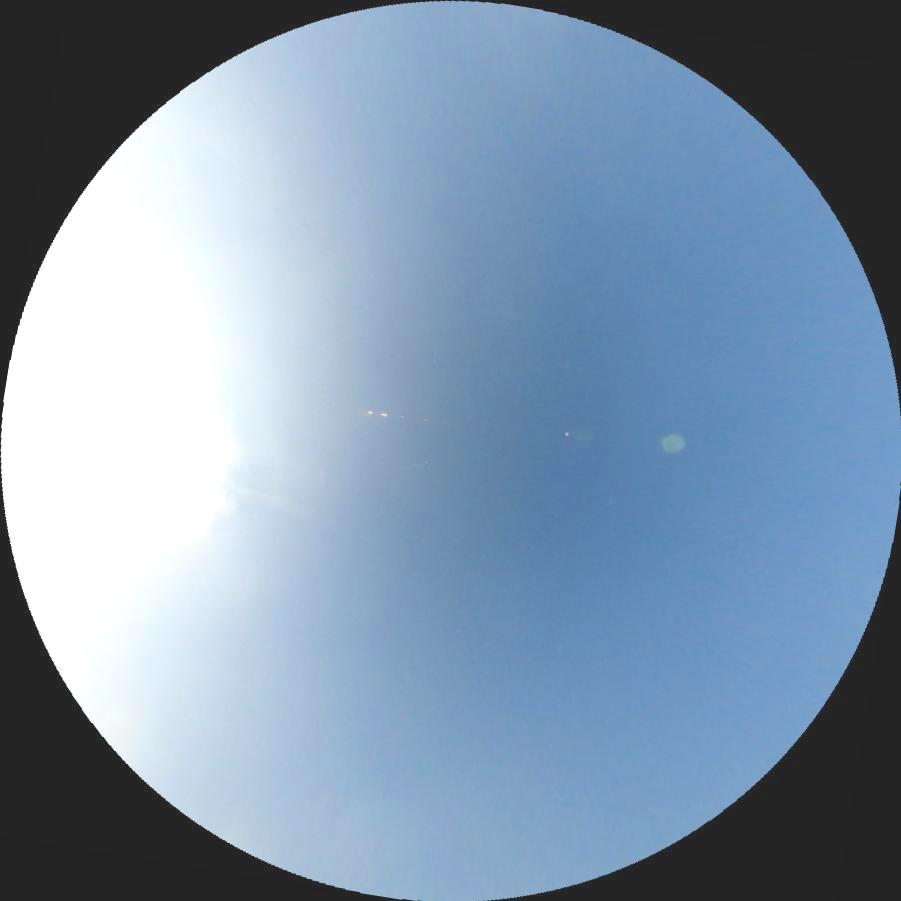contrail young: (386, 457, 426, 473)
